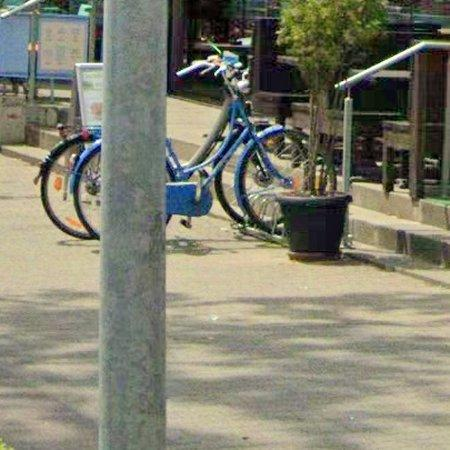bicycles: (166, 57, 308, 234), (35, 127, 101, 239), (184, 102, 228, 168), (72, 141, 100, 238), (177, 60, 204, 77)
